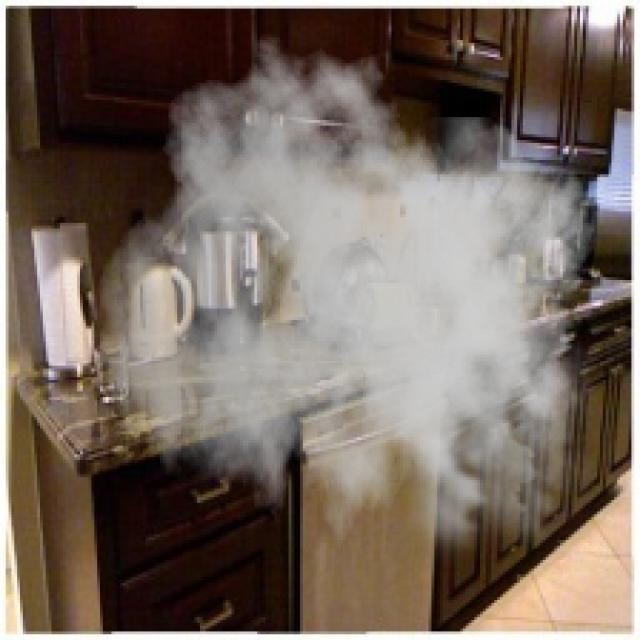Smoke: (97, 34, 612, 580)
